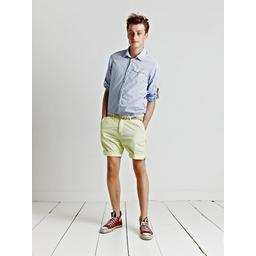shirt: (103, 47, 160, 116)
short: (100, 112, 148, 160)
